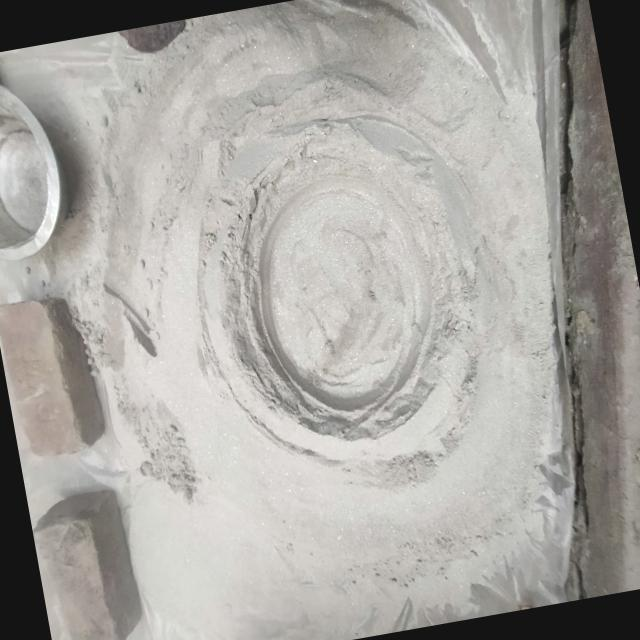C40: (199, 116, 478, 479)
